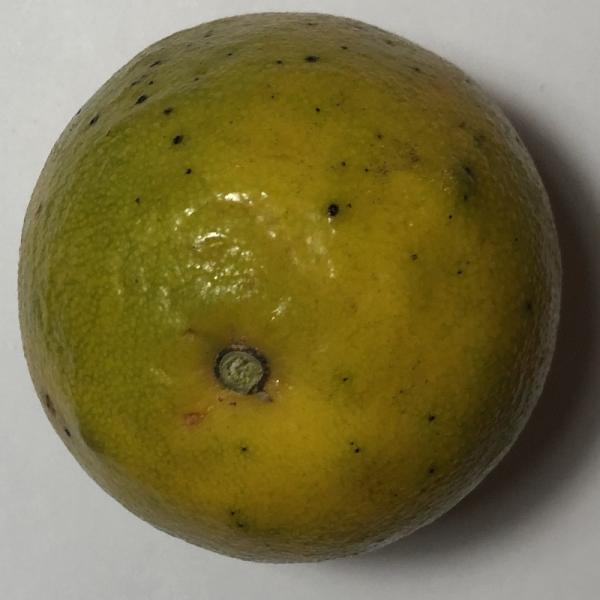Machas negras: (0, 0, 566, 565)
